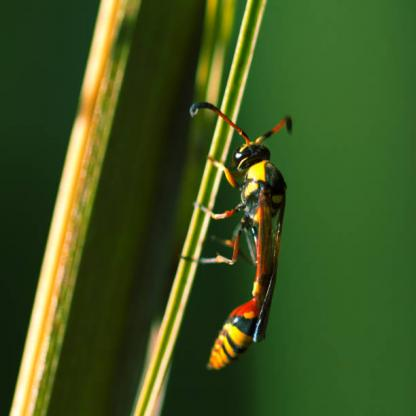sawfly: (166, 92, 298, 382)
